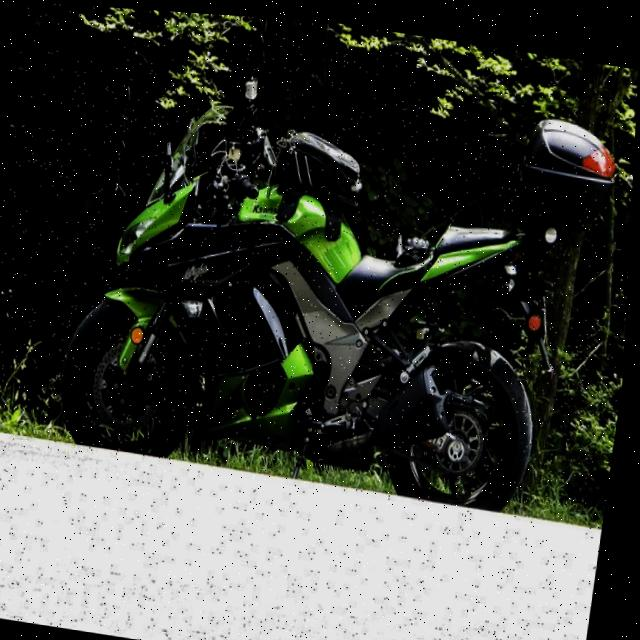motorcycle: (46, 37, 629, 530)
